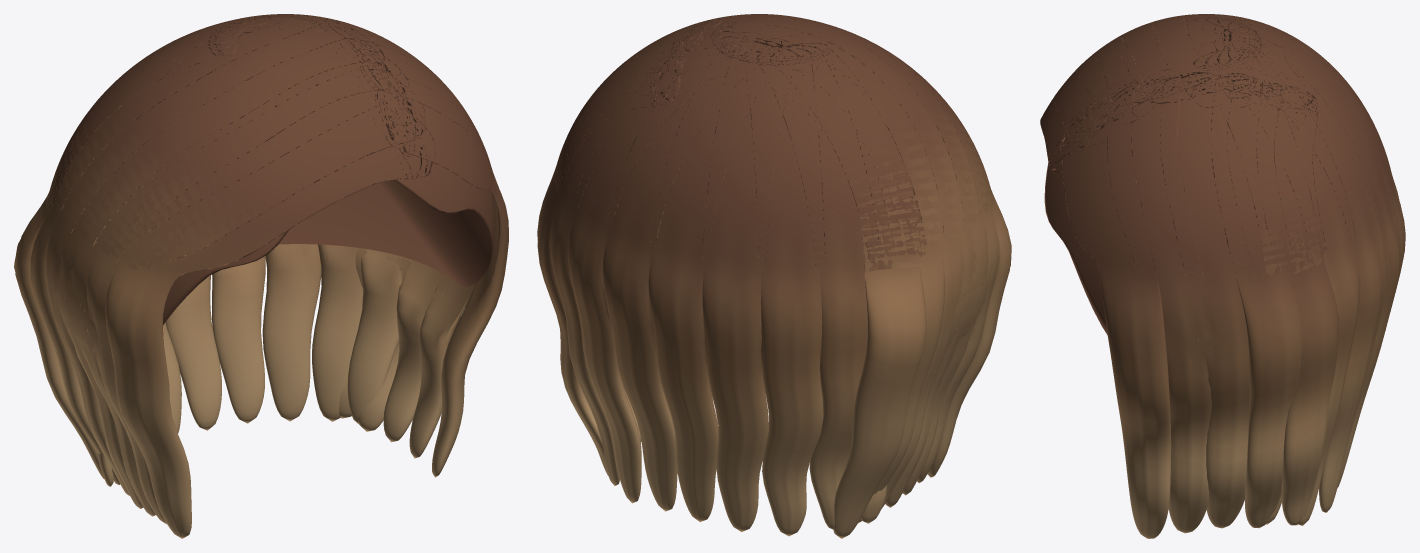
The model's file is Ombre-75841277d4f9253-hair.glb.
3 views of the same model, side by side, from view 1: azimuth 30°, elevation 25°; view 2: azimuth 150°, elevation 25°; view 3: azimuth 270°, elevation 25° (orthographic). The views are drawn at different scales.
Parts seen in each view (by area): view 1: 226 hair / Hair / sculpted 0.002, 226 hair / Hair / sculpted 1.004, 226 hair / Hair / sculpted 2.002, 226 hair / Hair / sculpted 1.003; view 2: 226 hair / Hair / sculpted 0.002, 226 hair / Hair / sculpted 2.002, 226 hair / Hair / sculpted 1.004; view 3: 226 hair / Hair / sculpted 1.004, 226 hair / Hair / sculpted 2.002, 226 hair / Hair / sculpted 0.002, 226 hair / Hair / sculpted 1.003.
Part boxes in pixels (x1,y1,x2,y2): 226 hair / Hair / sculpted 0.002: (14, 14, 454, 538); 226 hair / Hair / sculpted 1.004: (45, 14, 508, 524); 226 hair / Hair / sculpted 2.002: (30, 14, 495, 516); 226 hair / Hair / sculpted 1.003: (85, 162, 494, 363); 226 hair / Hair / sculpted 0.002: (568, 14, 1011, 538); 226 hair / Hair / sculpted 2.002: (537, 14, 989, 529); 226 hair / Hair / sculpted 1.004: (537, 14, 999, 536); 226 hair / Hair / sculpted 1.004: (1053, 14, 1400, 538); 226 hair / Hair / sculpted 2.002: (1077, 14, 1405, 533); 226 hair / Hair / sculpted 0.002: (1040, 14, 1399, 528); 226 hair / Hair / sculpted 1.003: (1044, 163, 1107, 334).
Size of the model in its own units: 0.9945 by 1.06 by 0.7967.
4 materials, 4 textured.
